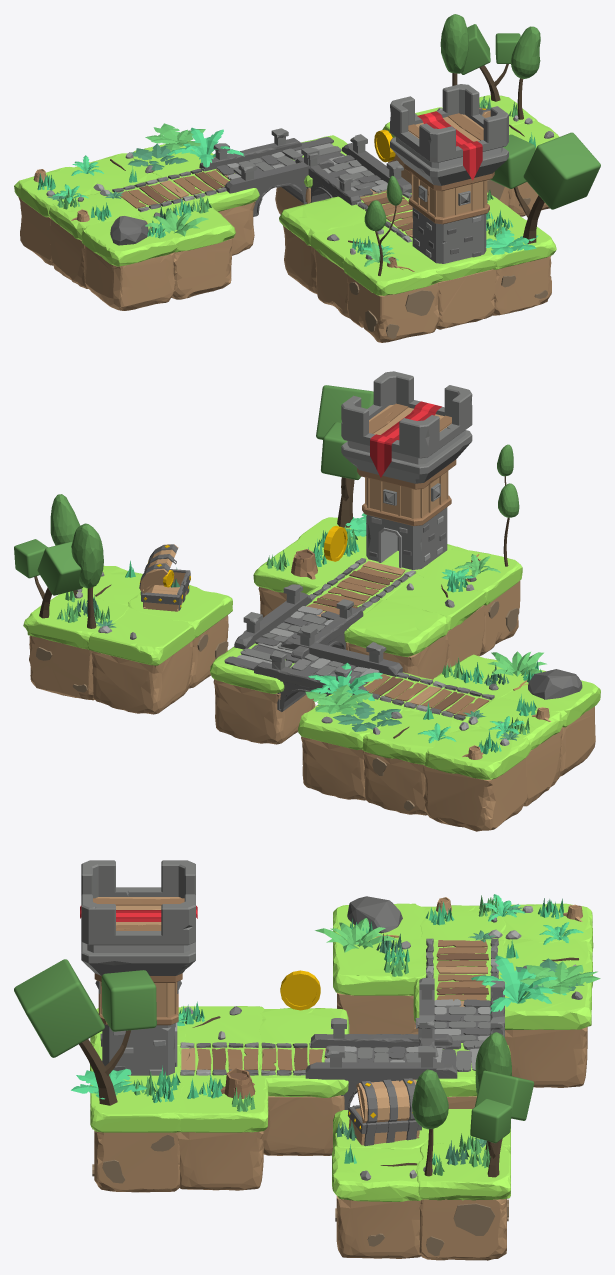
3 renders of one model, top to bottom at view 1: azimuth 30°, elevation 25°; view 2: azimuth 150°, elevation 25°; view 3: azimuth 270°, elevation 25°, orthographic. The views are drawn at different scales.
Parts seen in each view (by area): view 1: TowerV1, TreeV3_004_1, Bridge_002, Tile_Bot_Part_17, Bridge_002_1, Tile_Bot_Part_10, Tile_Top_Part_10, Tile_Bot_Part_12, Tile_Bot_Part_4, Tile_Bot_Part_7, Tile_Top_Part_17, Tile_Top_Part_9 (+38 smaller); view 2: TowerV1, Tile_Bot_Part_15, Tile_Bot_Part_18, Bridge_002, Bridge_002_1, Tile_Bot_Part_5, Tile_Top_Part_9, Tile_Top_Part_18, Tile_Top_Part_15, TreeV3_004_1, Tile_Bot_Part_13, Tile_Bot_Part_6 (+39 smaller); view 3: TowerV1, TreeV3_004_1, Bridge_002_1, Tile_Bot_Part_11, Tile_Bot_Part_19, Tile_Bot_Part_7, Tile_Top_Part_19, Tile_Bot_Part_13, Bridge_002, Tile_Bot_Part_2, Tile_Bot_Part_6, Tile_Top_Part_12 (+38 smaller).
Part boxes in pixels (bbox=[...]): TowerV1: bbox=[390, 84, 508, 263]; TreeV3_004_1: bbox=[490, 132, 600, 243]; Bridge_002: bbox=[199, 128, 334, 216]; Tile_Bot_Part_17: bbox=[84, 246, 174, 310]; Bridge_002_1: bbox=[295, 134, 411, 205]; Tile_Bot_Part_10: bbox=[347, 275, 440, 342]; Tile_Top_Part_10: bbox=[343, 242, 442, 295]; Tile_Bot_Part_12: bbox=[171, 238, 232, 299]; Tile_Bot_Part_4: bbox=[436, 269, 496, 329]; Tile_Bot_Part_7: bbox=[493, 256, 551, 315]; Tile_Top_Part_17: bbox=[81, 215, 177, 266]; Tile_Top_Part_9: bbox=[279, 196, 365, 245]; TowerV1: bbox=[341, 371, 472, 569]; Tile_Bot_Part_15: bbox=[423, 758, 526, 831]; Tile_Bot_Part_18: bbox=[91, 641, 192, 714]; Bridge_002: bbox=[254, 625, 402, 711]; Bridge_002_1: bbox=[234, 584, 363, 659]; Tile_Bot_Part_5: bbox=[213, 679, 315, 744]; Tile_Top_Part_9: bbox=[345, 599, 448, 656]; Tile_Top_Part_18: bbox=[87, 608, 195, 665]; Tile_Top_Part_15: bbox=[424, 726, 531, 779]; TreeV3_004_1: bbox=[316, 385, 373, 527]; Tile_Bot_Part_13: bbox=[301, 736, 365, 800]; Tile_Bot_Part_6: bbox=[29, 635, 94, 700]; TowerV1: bbox=[81, 860, 195, 1075]; TreeV3_004_1: bbox=[14, 959, 156, 1105]; Bridge_002_1: bbox=[305, 1018, 457, 1109]; Tile_Bot_Part_11: bbox=[178, 1131, 263, 1190]; Tile_Bot_Part_19: bbox=[336, 1196, 421, 1258]; Tile_Bot_Part_7: bbox=[94, 1131, 179, 1192]; Tile_Top_Part_19: bbox=[332, 1145, 422, 1201]; Tile_Bot_Part_13: bbox=[505, 1027, 587, 1087]; Bridge_002: bbox=[419, 977, 504, 1049]; Tile_Bot_Part_2: bbox=[263, 1095, 344, 1155]; Tile_Bot_Part_6: bbox=[419, 1199, 506, 1260]; Tile_Top_Part_12: bbox=[333, 937, 427, 995].
Size of the model in its own units: 8.44 by 3.5 by 7.25.
Materials: 1 (1 with a texture image).
